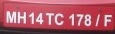character: (5, 10, 16, 23), (54, 12, 63, 26), (17, 11, 26, 24), (45, 12, 54, 25), (75, 13, 83, 26), (83, 13, 91, 26), (103, 14, 111, 27), (35, 12, 43, 24), (28, 11, 34, 25), (68, 13, 74, 26)
